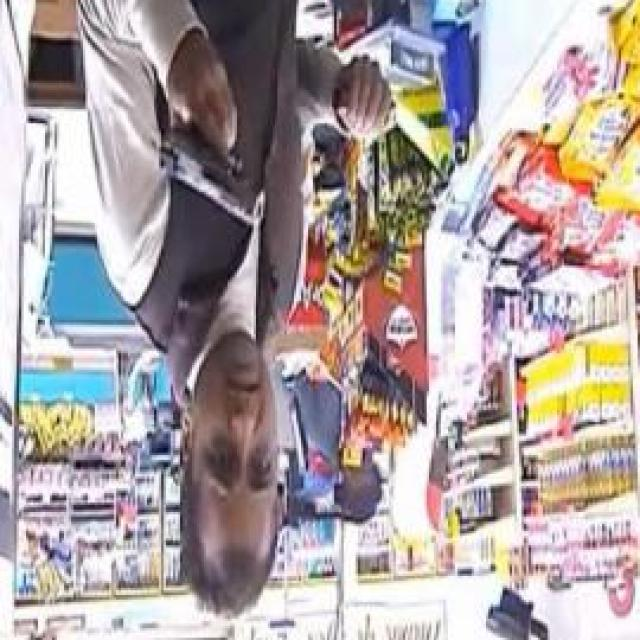pistol: (152, 111, 268, 232)
